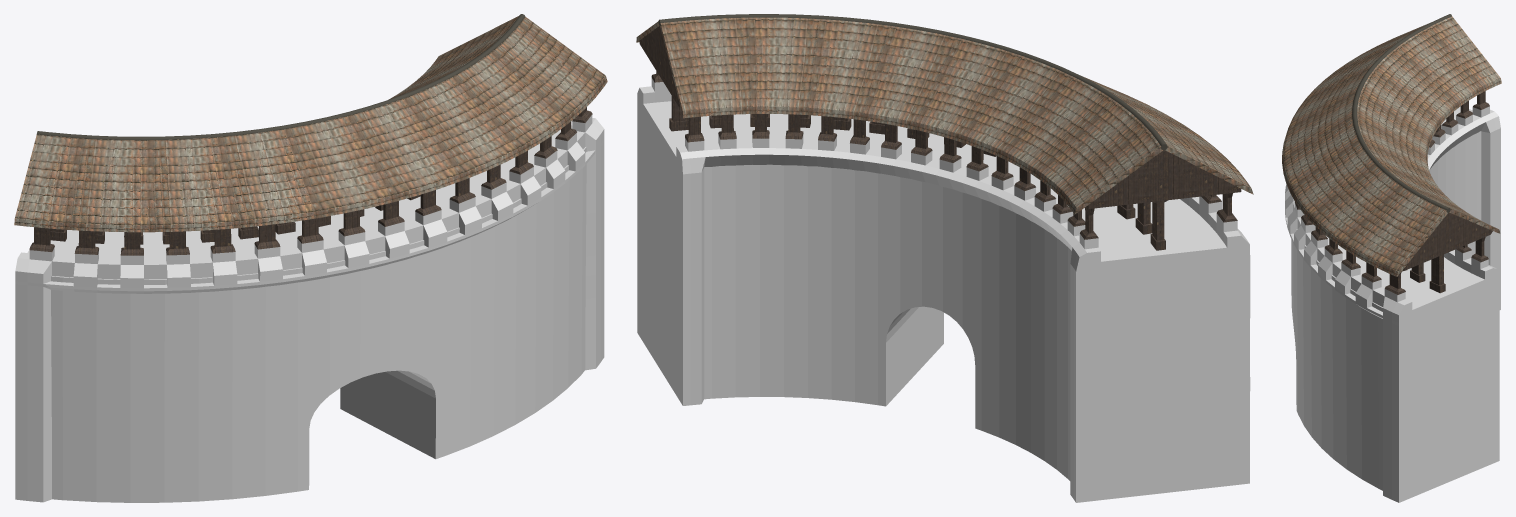
File: CastleWallsRoof-1.fbx
3 views of the same model, side by side, from view 1: azimuth 30°, elevation 25°; view 2: azimuth 150°, elevation 25°; view 3: azimuth 270°, elevation 25° (orthographic). The views are drawn at different scales.
Parts seen in each view (by area): view 1: HradbyTypC.006; view 2: HradbyTypC.006; view 3: HradbyTypC.006.
Boxes of the visible parts, box(x1,y1,x2,y2) form: HradbyTypC.006: box(14, 14, 607, 502); HradbyTypC.006: box(636, 14, 1253, 502); HradbyTypC.006: box(1282, 14, 1501, 502).
Size of the model in its own units: 4256 by 2293 by 1666.
